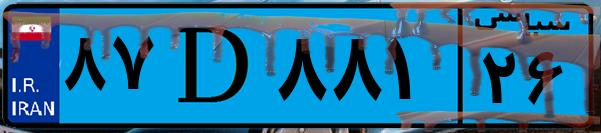1: (385, 28, 445, 110)
2: (475, 38, 525, 113)
6: (525, 38, 570, 115)
7: (110, 28, 158, 98)
8: (270, 28, 330, 110), (330, 28, 385, 110), (57, 26, 110, 100)
D: (158, 12, 270, 120)
